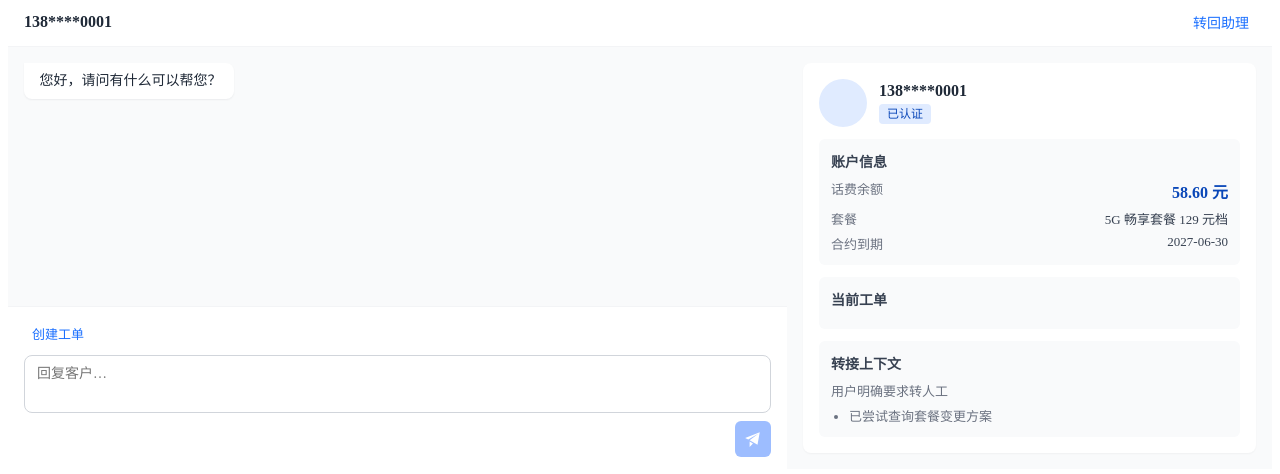
Test case: ActiveChatView — default 对话（US-22，坐席发消息） › 输入内容点击发送：WS sendMessage 出站，清空输入；message.new 回显为坐席气泡
Type "我来帮您核对套餐变更" into the text box with test id "chat-textarea" at (398, 384), box [24,355,771,413]
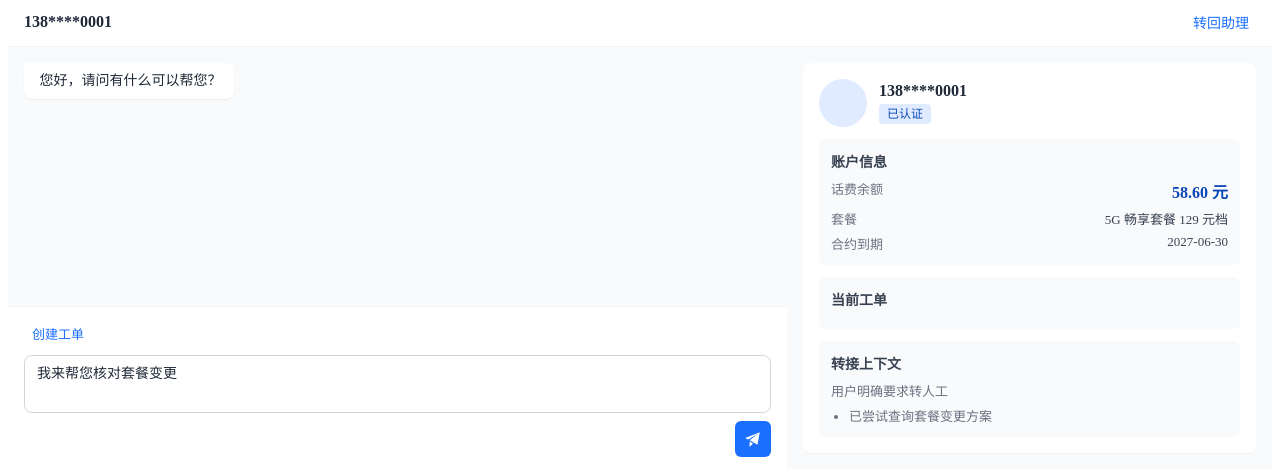
Click the button with test id "chat-send" at (753, 439), box [735,421,771,457]
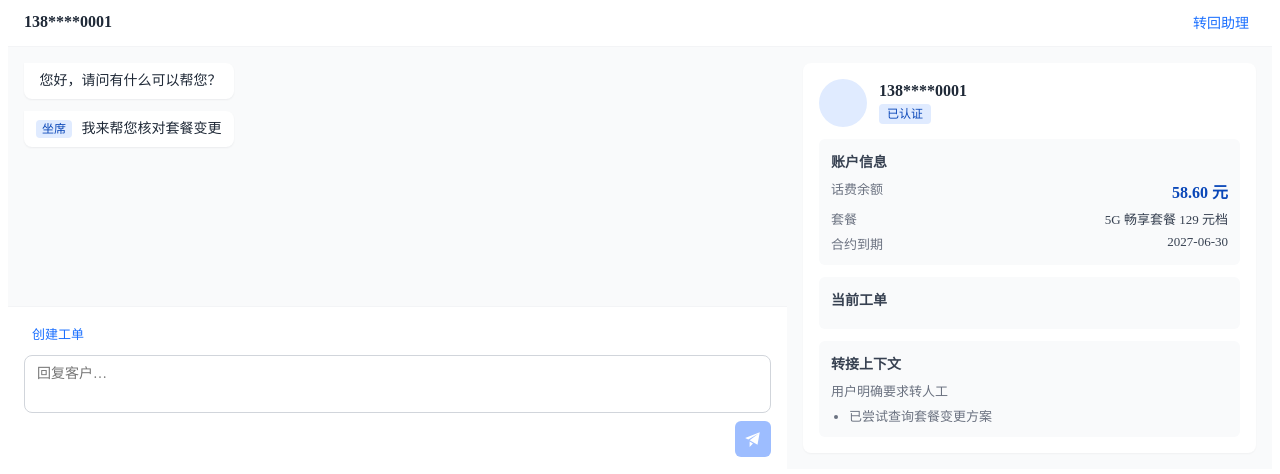
Expected: the text box with test id "chat-textarea" is empty, [24,355,771,413]
Expected: the number of elements with test id "message-bubble" is 2, [24,63,234,99]; [24,111,234,147]
Expected: the element with test id "message-bubble" shows "我来帮您核对套餐变更", [78,121,222,136]
